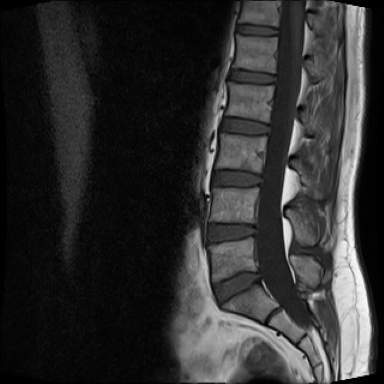Lumbar Disc Bulge (LDB): (200, 220, 263, 247)
Normal IVD: (206, 264, 266, 310), (205, 164, 267, 190), (220, 63, 279, 88), (217, 112, 273, 138), (229, 22, 282, 40)
Spinal Stenosis (SS): (245, 220, 263, 241)
